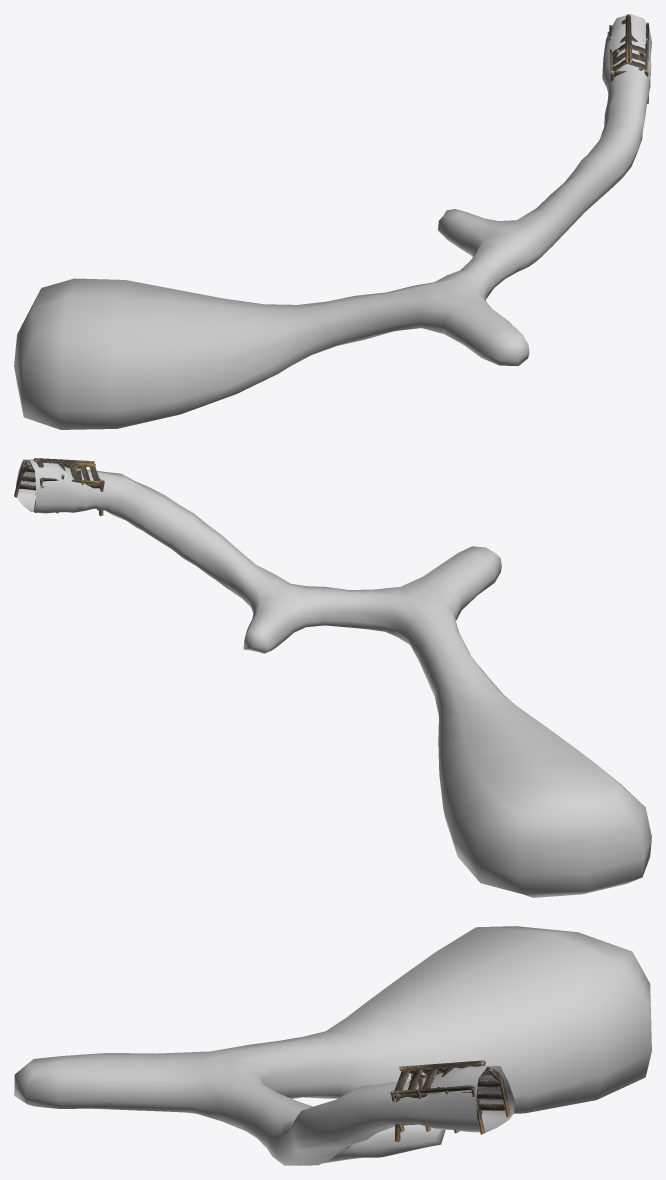
The model's file is CaveInteriorV2.fbx.
The picture shows the model from 3 angles, top to bottom: view 1: azimuth 30°, elevation 25°; view 2: azimuth 150°, elevation 25°; view 3: azimuth 270°, elevation 25°; orthographic projection. The views are drawn at different scales.
Parts seen in each view (by area): view 1: Cube, sypport_beam_top_left; view 2: Cube, sypport_beam_top_right; view 3: Cube, sypport_beam_top_left, sypport_beam_right, sypport_beam_top_right, support beam_left.
Boxes of the visible parts, bbox=[...] form: Cube: bbox=[14, 14, 651, 429]; sypport_beam_top_left: bbox=[625, 14, 648, 71]; Cube: bbox=[15, 459, 651, 897]; sypport_beam_top_right: bbox=[33, 458, 100, 483]; Cube: bbox=[14, 926, 651, 1165]; sypport_beam_top_left: bbox=[391, 1060, 485, 1095]; sypport_beam_right: bbox=[411, 1072, 510, 1117]; sypport_beam_top_right: bbox=[399, 1061, 498, 1078]; support beam_left: bbox=[390, 1086, 484, 1134].
Bounding box in the file's own units: 12359 × 5086 × 7856.
